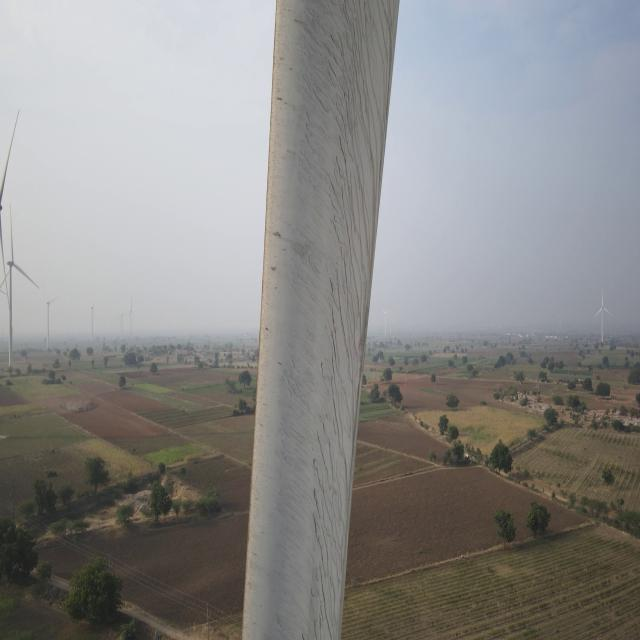Dirt: (248, 0, 400, 640)
